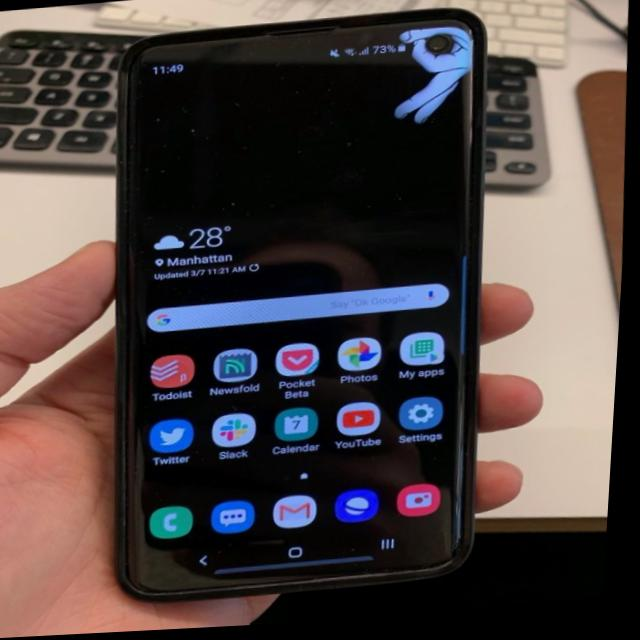Smartphone: (72, 0, 525, 621)
